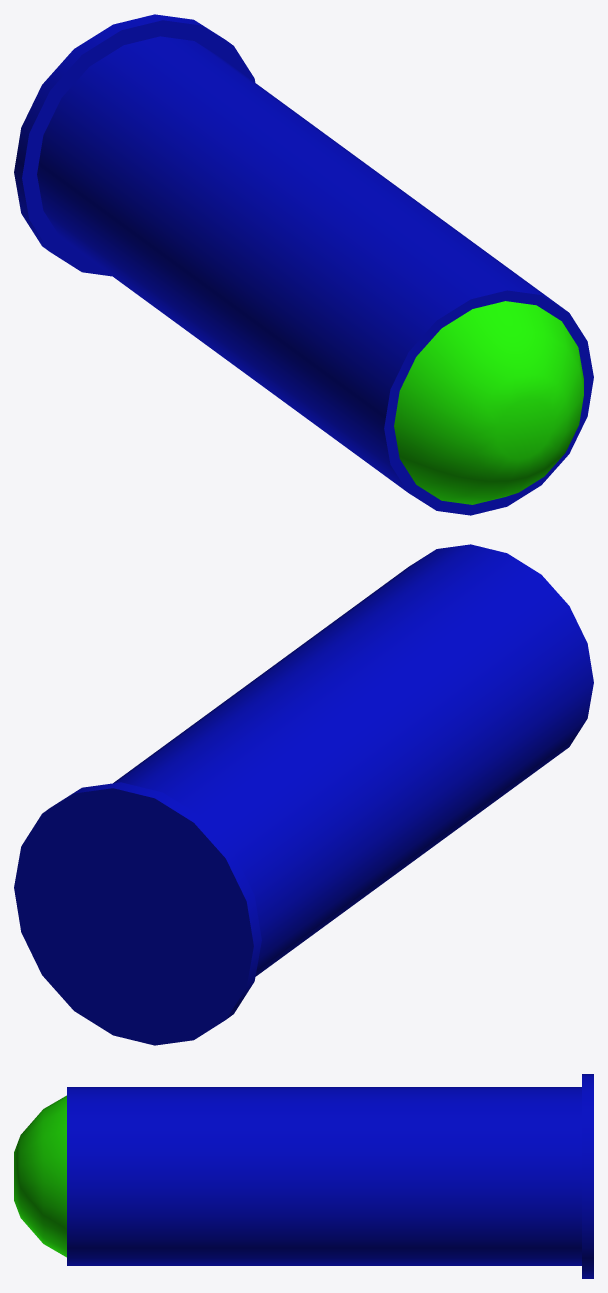
Rendered from bullet.FBX.
3 renders of one model, top to bottom at view 1: azimuth 30°, elevation 25°; view 2: azimuth 150°, elevation 25°; view 3: azimuth 270°, elevation 25°, orthographic. The views are drawn at different scales.
Visible parts, largest first — view 1: Cylinder001; view 2: Cylinder001; view 3: Cylinder001.
Boxes of the visible parts, bbox=[...] form: Cylinder001: bbox=[14, 14, 593, 515]; Cylinder001: bbox=[14, 544, 593, 1045]; Cylinder001: bbox=[14, 1074, 593, 1278].
Size of the model in its own units: 19.28 by 18.99 by 54.39.
